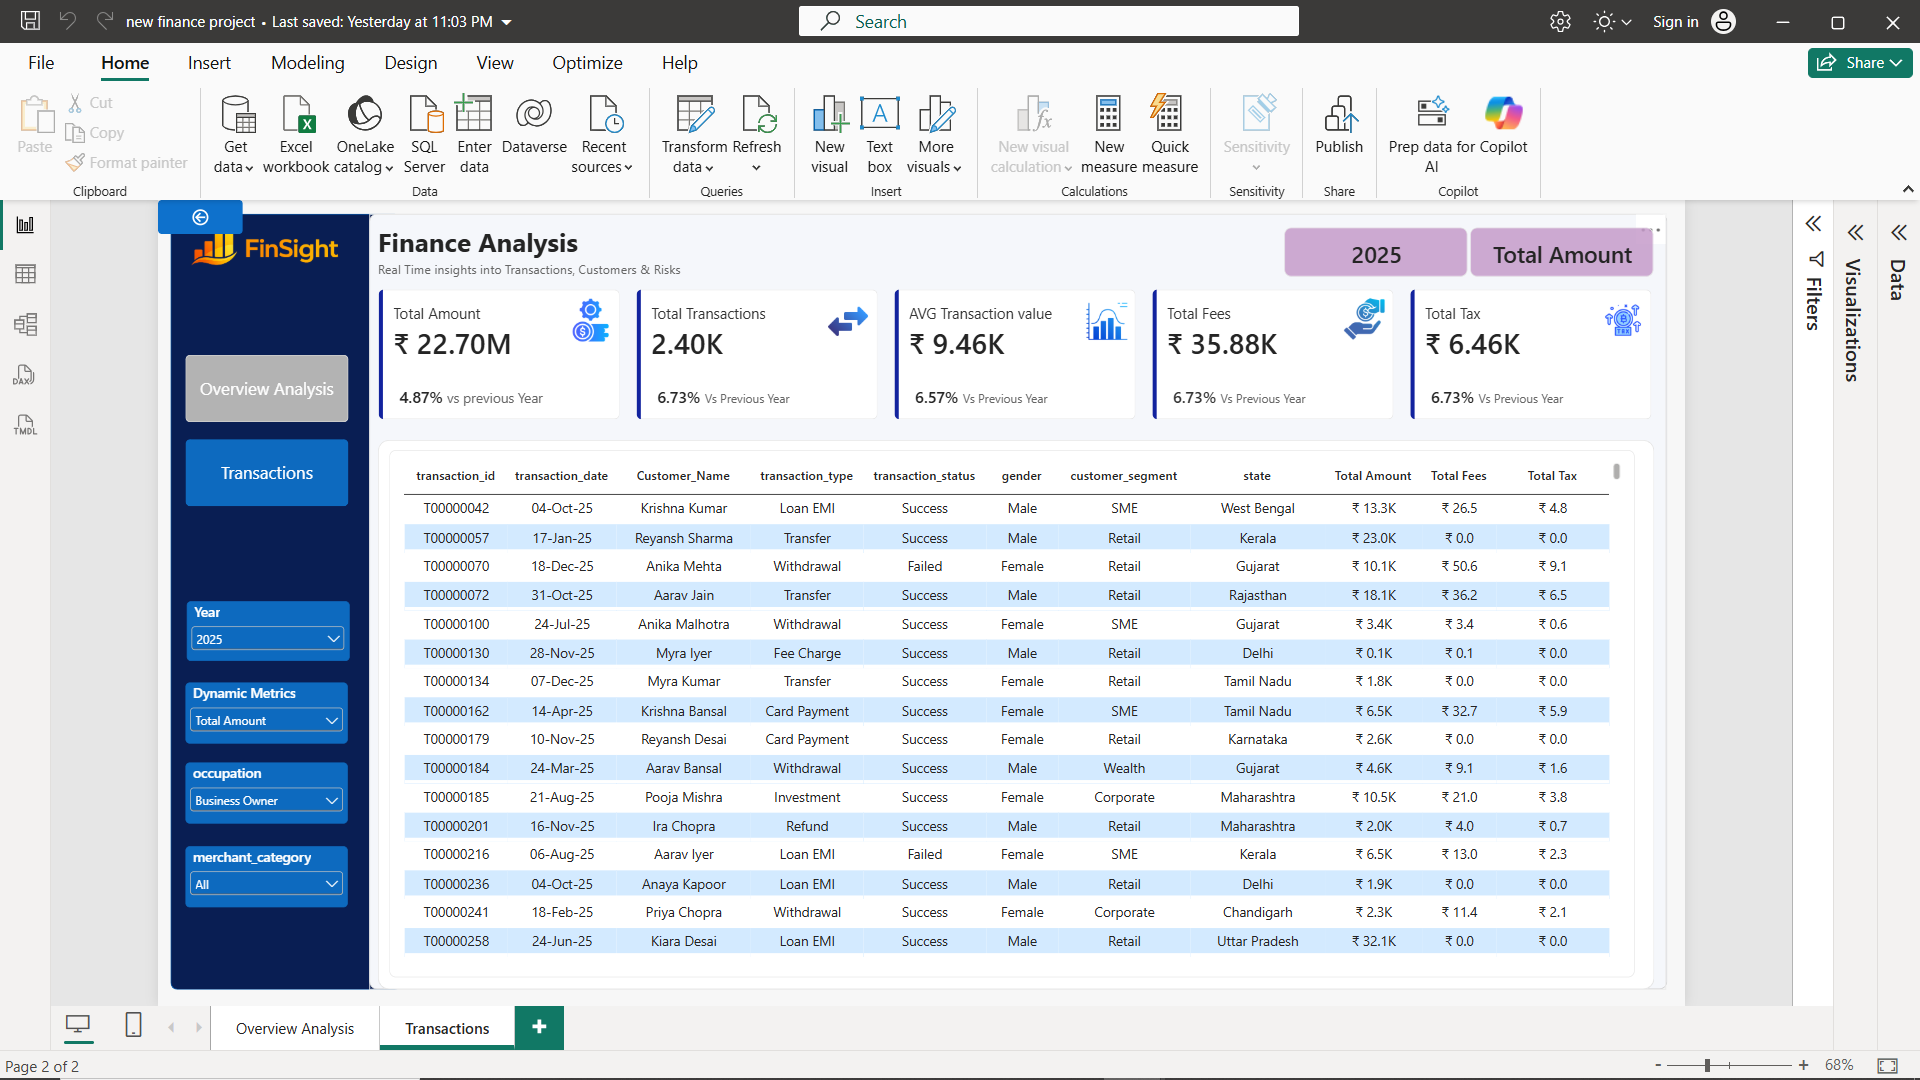

The dashboard page shown, as its layout file describes it:
{"tool":"powerbi","page":{"name":"Transactions","canvas":[1800,950],"ordinal":1},"visuals":[{"type":"shape","box":[14.7,16.4,272.1,914.7],"z":0},{"type":"shape","box":[248.5,16.4,1530,914.1],"z":1000},{"type":"image","box":[32.7,16.4,191.3,75.2],"z":2000},{"type":"cardVisual","fields":{"Data":["finance_transactions.Dashboard Tittle"]},"box":[260,16.7,393.3,88.3],"z":3000},{"type":"cardVisual","fields":{"Data":["finance_transactions.Total Amount","finance_transactions.Total Trasactions","finance_transactions.AVG Transaction","finance_transactions.Total Fees","finance_transactions.Total Tax"]},"box":[260,105,1505,155],"z":4000},{"type":"image","box":[1396.4,114.5,50,50],"z":6000},{"type":"image","box":[484,116.1,50,50],"z":7000},{"type":"image","box":[788.2,117.7,50,50],"z":8000},{"type":"image","box":[1093.9,117.7,50,50],"z":9000},{"type":"image","box":[1702.2,116.1,50,50],"z":10000},{"type":"shape","box":[260,282.9,1504.4,647.5],"z":12000},{"type":"cardVisual","fields":{"Data":["finance_transactions.Selected Year","finance_transactions.Selected Dynamic Measure"]},"box":[1327.8,32.7,436.6,58.9],"z":14000},{"type":"tableEx","fields":{"Values":["finance_transactions.transaction_id","finance_transactions.transaction_date","customers.Customer_Name","finance_transactions.transaction_type","finance_transactions.transaction_status","customers.gender","customers.customer_segment","customers.state","finance_transactions.Total Amount","finance_transactions.Total Fees","finance_transactions.Total Tax"]},"box":[273.1,294.3,1468.4,621.4],"z":14001},{"type":"actionButton","box":[0,0,100,40],"z":14002},{"type":"slicer","fields":{"Values":["Calender Table.Year"]},"box":[33.3,473.3,191.7,70],"z":14003},{"type":"slicer","fields":{"Values":["Dynamic Metrics.Dynamic Metrics"]},"box":[32.7,569,191.3,71.9],"z":14004},{"type":"slicer","fields":{"Values":["customers.occupation"]},"box":[31.8,663.2,191.3,71.9],"z":14005},{"type":"slicer","fields":{"Values":["finance_transactions.merchant_category"]},"box":[31.8,762.2,191.3,71.9],"z":14006},{"type":"pageNavigator","box":[31.8,182.2,192.8,178.6],"z":14007}]}

Visuals, with their boxes on the page's 1800x950 design canvas (x1, y1, x2, y2). These are canvas units, not pixel positions in the 1920x1080 screenshot, which may show the page scaled, cropped or inside an application window:
shape: left=15, top=16, right=287, bottom=931
shape: left=248, top=16, right=1778, bottom=930
image: left=33, top=16, right=224, bottom=92
cardVisual - finance_transactions.Dashboard Tittle: left=260, top=17, right=653, bottom=105
cardVisual - finance_transactions.Total Amount x finance_transactions.Total Trasactions: left=260, top=105, right=1765, bottom=260
image: left=1396, top=114, right=1446, bottom=164
image: left=484, top=116, right=534, bottom=166
image: left=788, top=118, right=838, bottom=168
image: left=1094, top=118, right=1144, bottom=168
image: left=1702, top=116, right=1752, bottom=166
shape: left=260, top=283, right=1764, bottom=930
cardVisual - finance_transactions.Selected Year x finance_transactions.Selected Dynamic Measure: left=1328, top=33, right=1764, bottom=92
tableEx - finance_transactions.transaction_id x finance_transactions.transaction_date: left=273, top=294, right=1742, bottom=916
actionButton: left=0, top=0, right=100, bottom=40
slicer - Calender Table.Year: left=33, top=473, right=225, bottom=543
slicer - Dynamic Metrics.Dynamic Metrics: left=33, top=569, right=224, bottom=641
slicer - customers.occupation: left=32, top=663, right=223, bottom=735
slicer - finance_transactions.merchant_category: left=32, top=762, right=223, bottom=834
pageNavigator: left=32, top=182, right=225, bottom=361
